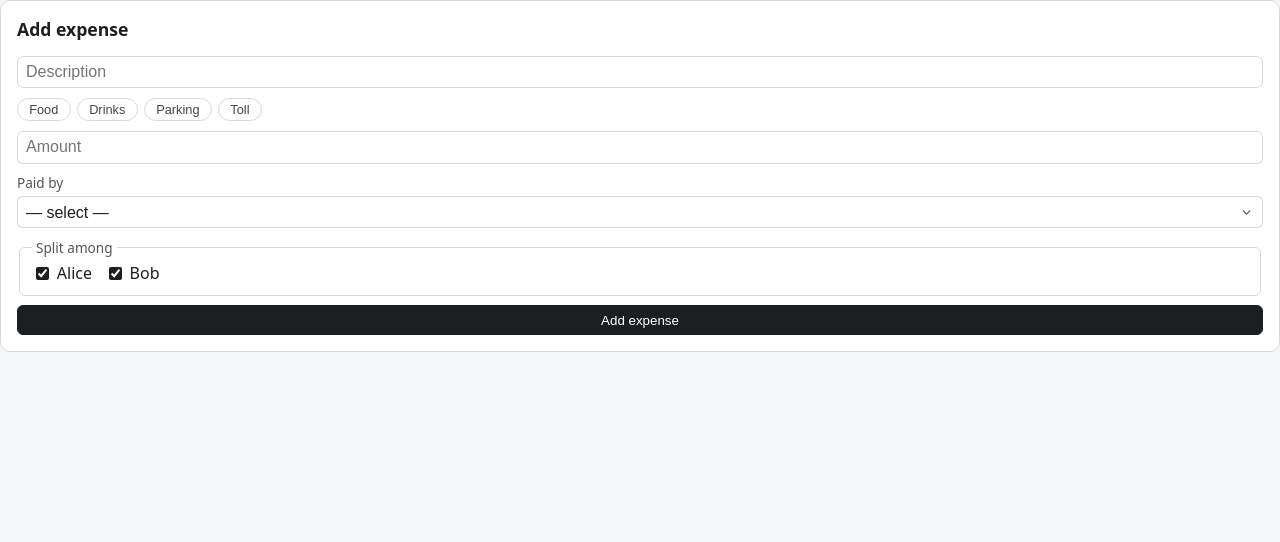
it: ExpenseForm › shows the participants error when everyone is unchecked
Click the checkbox labelled "Alice" at x=42, y=273, box top-left (36, 267), bottom-right (49, 280)
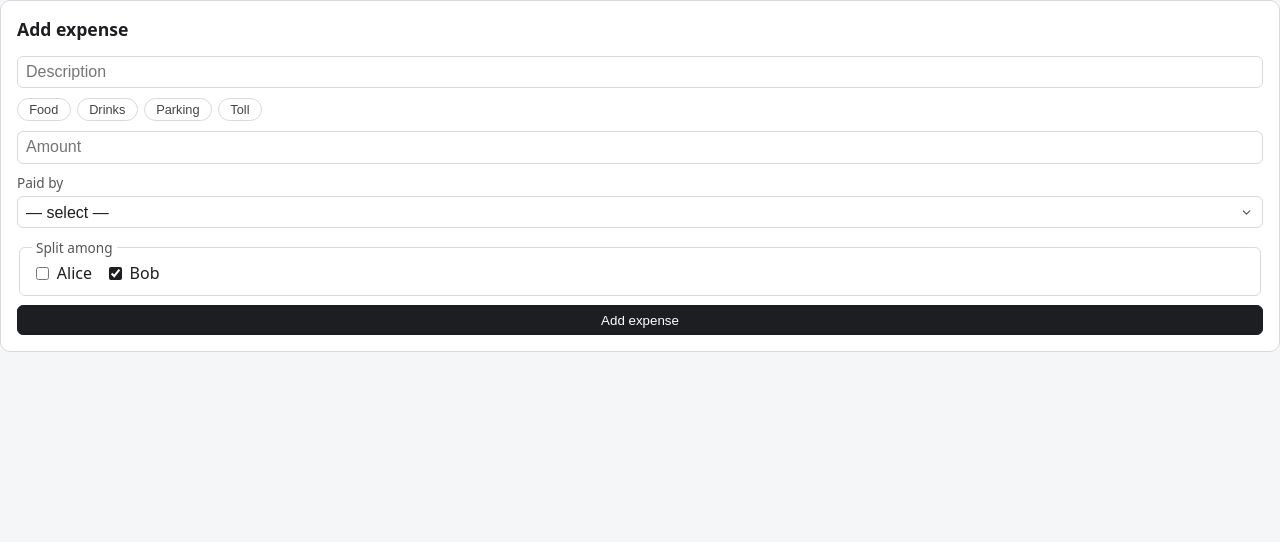
Click the checkbox labelled "Bob" at x=115, y=273, box top-left (109, 267), bottom-right (122, 280)
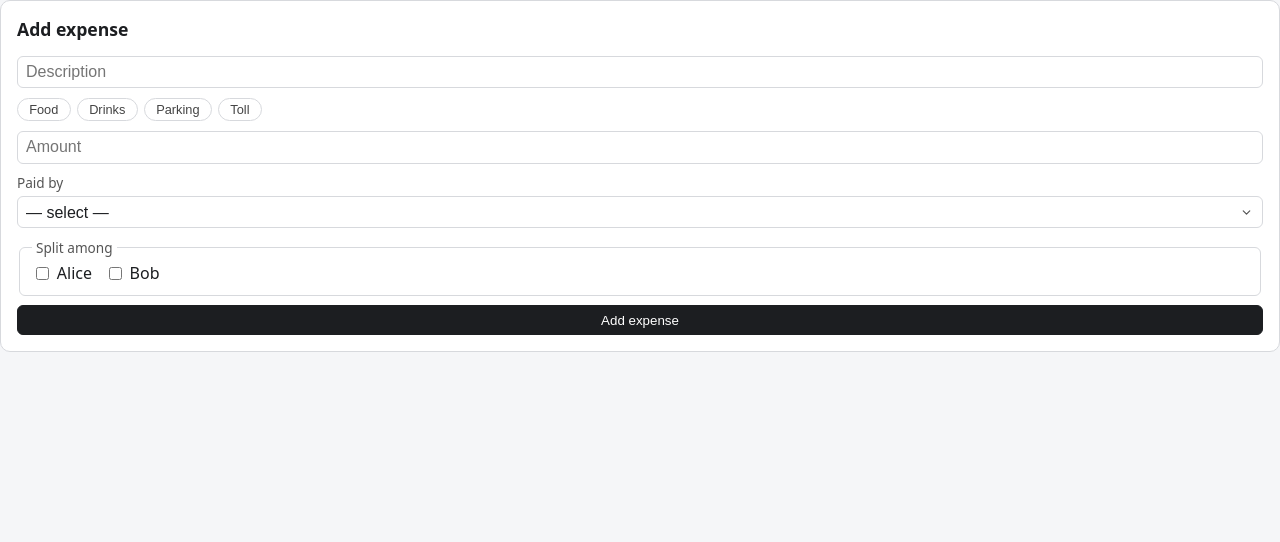
Click the button "Add expense" at x=640, y=320, box top-left (17, 305), bottom-right (1263, 335)
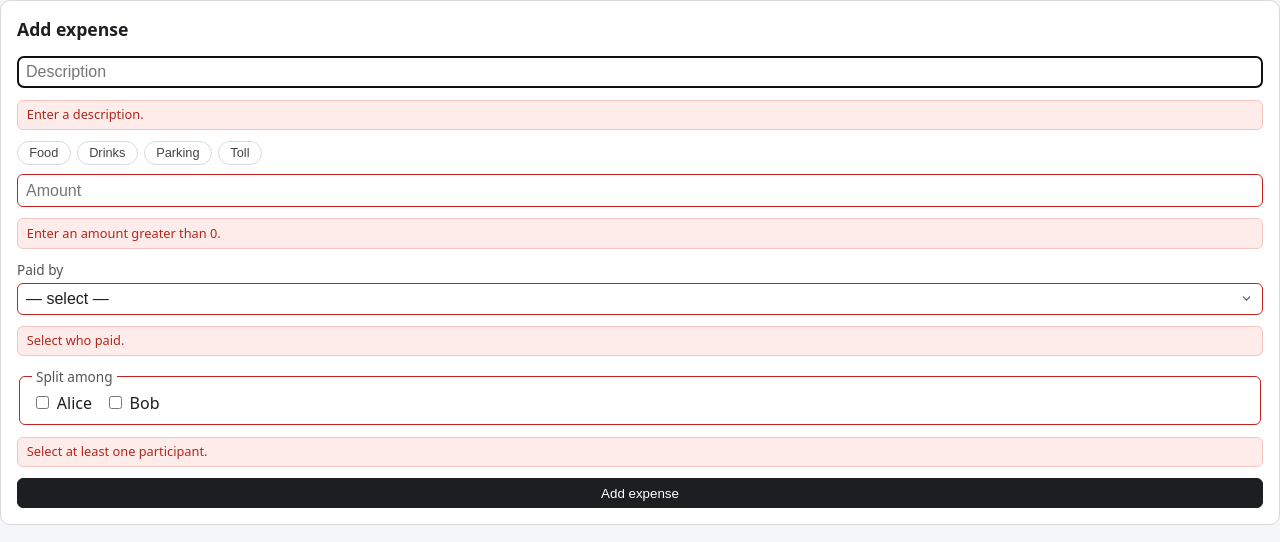
Expected: the text "Select at least one participant." is shown, top-left (17, 437), bottom-right (1263, 467)
